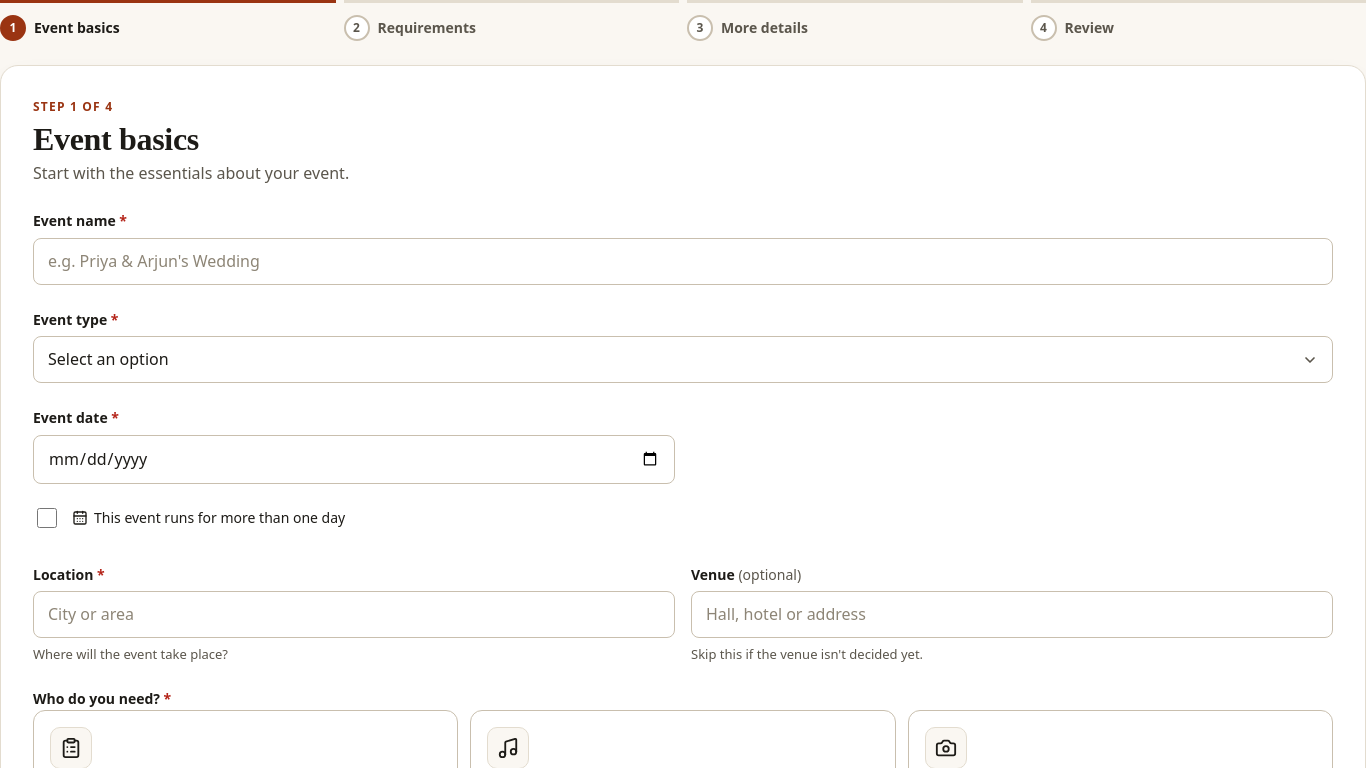
Test: RequirementWizard › shows end date only for multi-day events and rejects end before start
Expected: the field labelled "end date" is not shown
Click the checkbox labelled "This event runs for more than one day" at coordinates (47, 518), box [37,508,57,528]
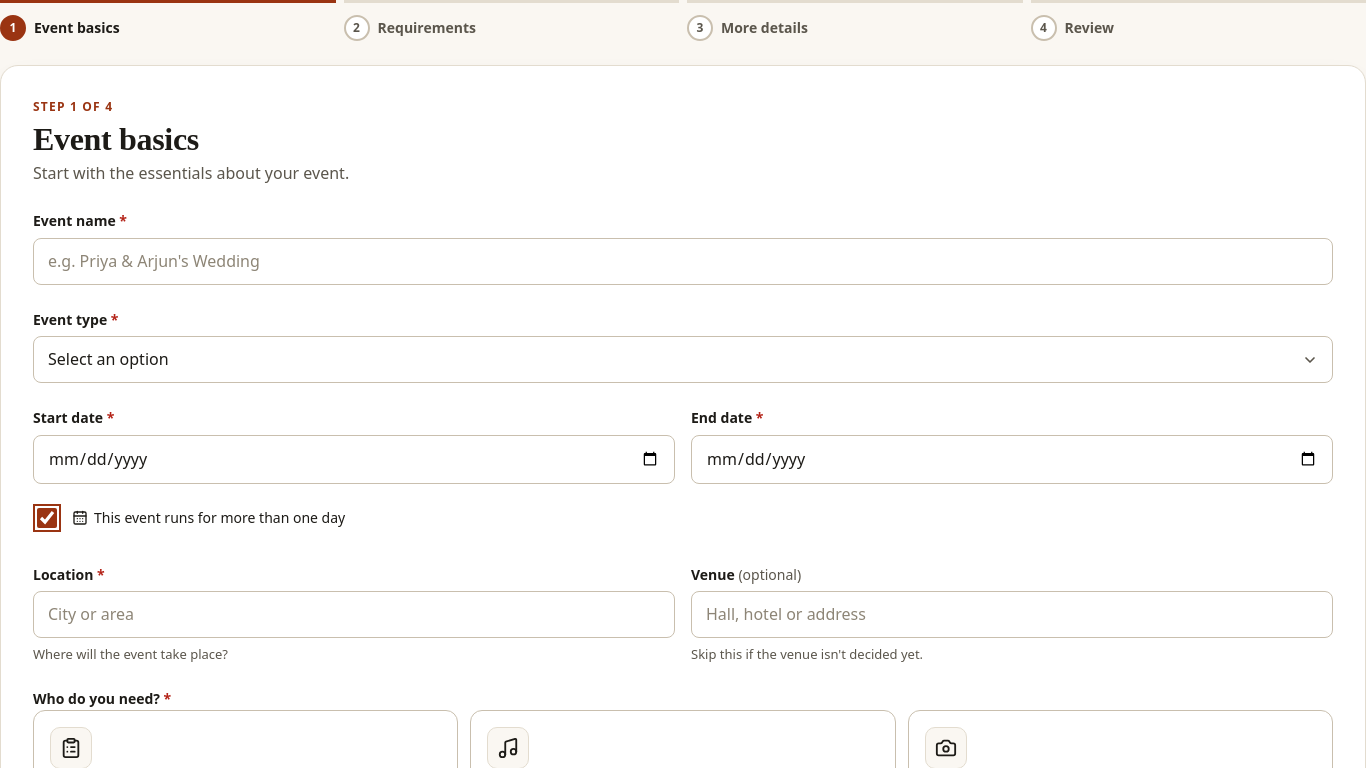
Type "2026-12-15" into the date field labelled "Start date *" at coordinates (354, 459), box [33,435,675,484]
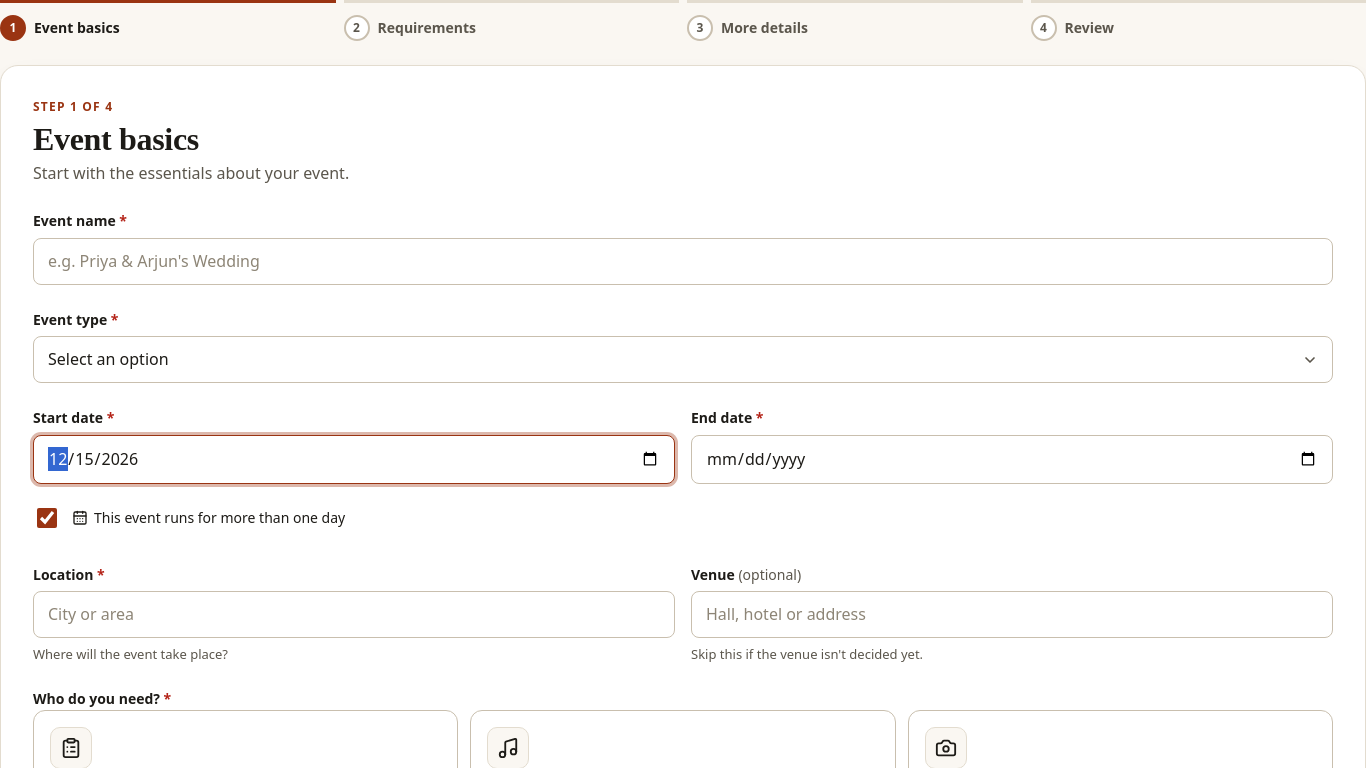
Type "2026-12-10" into the date field labelled "End date *" at coordinates (1012, 459), box [691,435,1333,484]
(page scrolled)
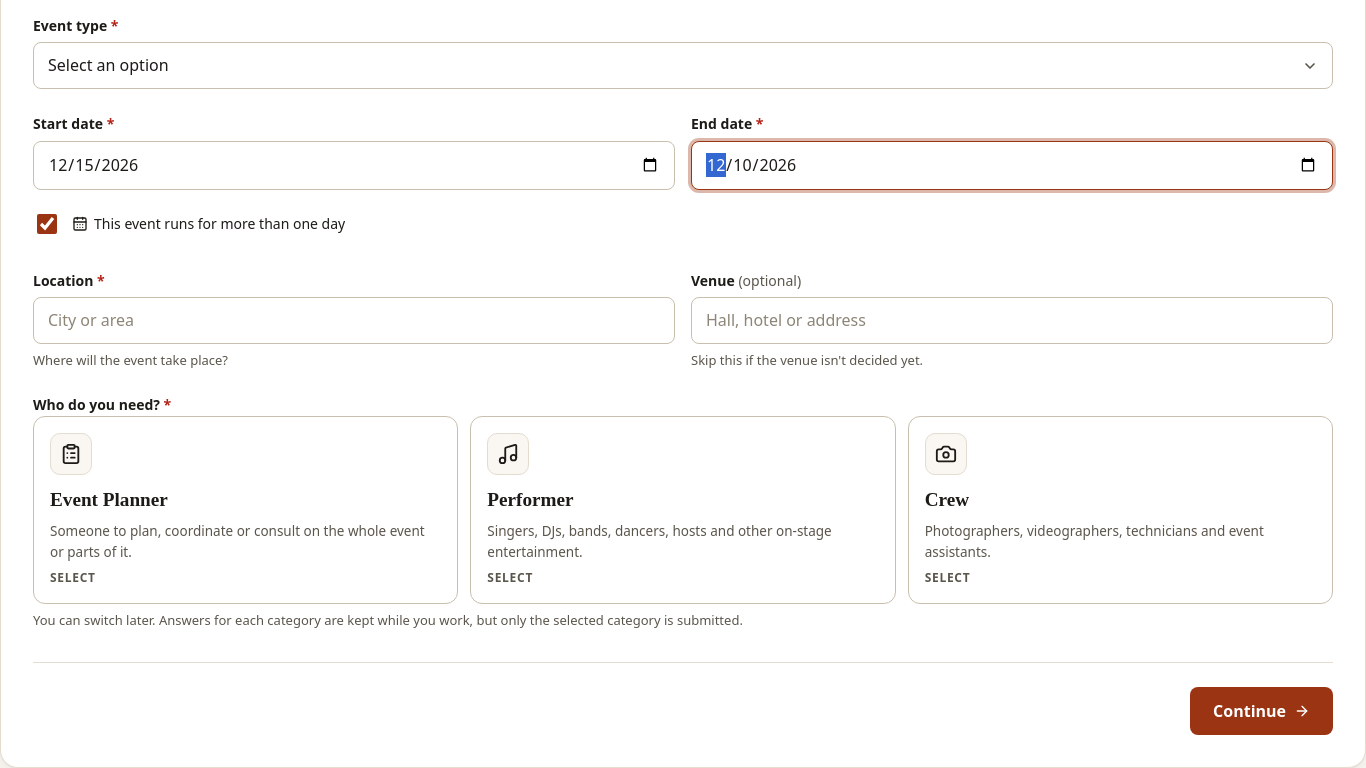
Click the button "Continue" at coordinates (1262, 711), box [1190,687,1333,735]
(page scrolled)
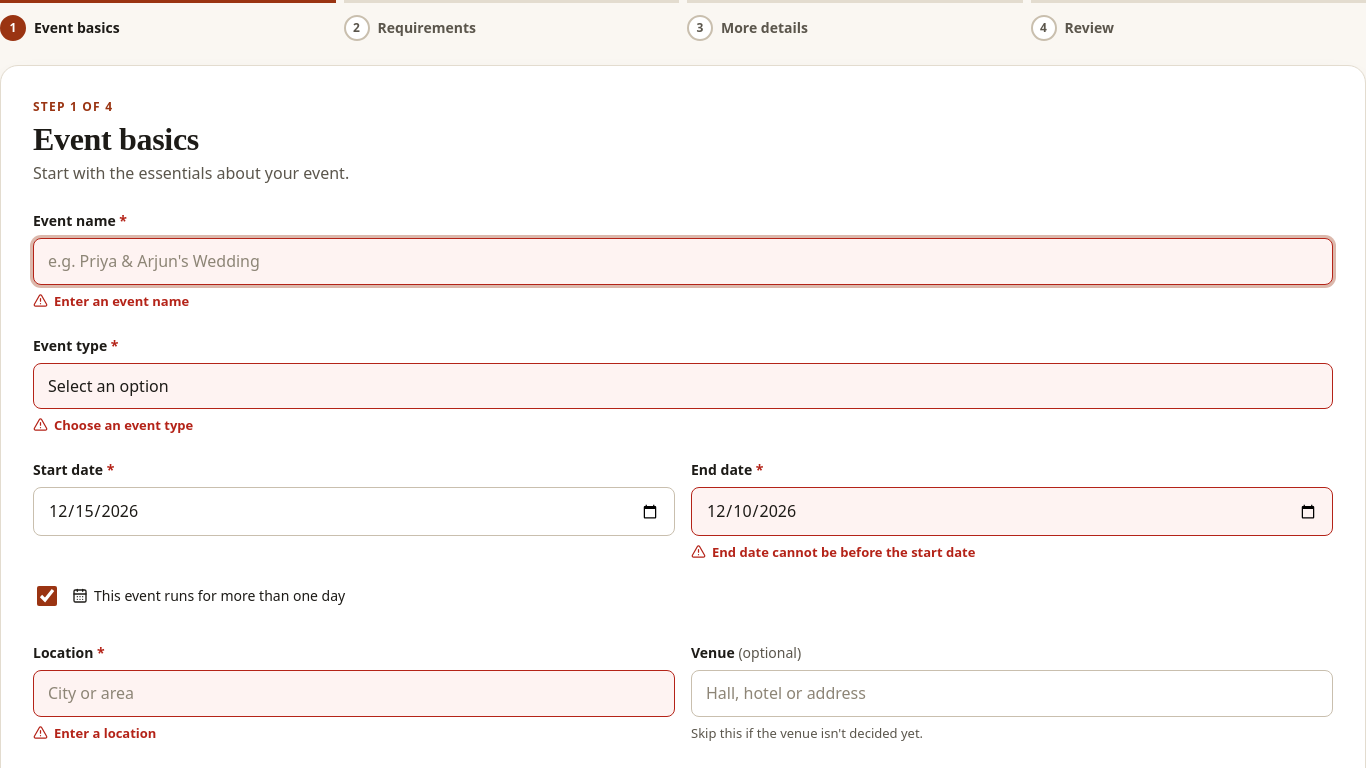
Now the text "End date cannot be before the start date" is shown, box [691,543,975,561]
